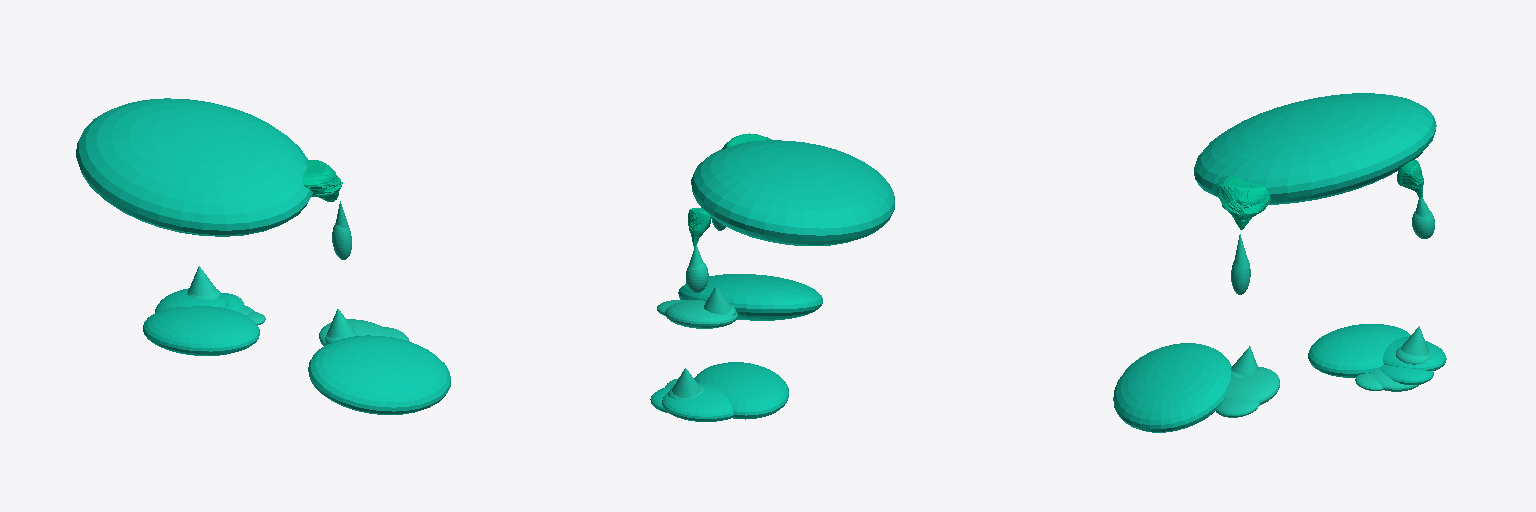
The model's file is obscure_faces.obj.
3 views of the same model, side by side, from view 1: azimuth 30°, elevation 25°; view 2: azimuth 150°, elevation 25°; view 3: azimuth 270°, elevation 25° (orthographic).
Visible parts, largest first — view 1: Sphere.021_Sphere.038, Sphere.008_Sphere.028, Sphere.007_Sphere.027, Sphere.020_Sphere.037, Sphere.016_Sphere.018, Sphere.009_Sphere.029, Sphere.019_Sphere.036; view 2: Sphere.021_Sphere.038, Sphere.008_Sphere.028, Sphere.007_Sphere.027, Sphere.016_Sphere.018, Sphere.009_Sphere.029, Sphere.013_Sphere.016, Cone.000, Sphere.014_Sphere.015; view 3: Sphere.021_Sphere.038, Sphere.008_Sphere.028, Sphere.007_Sphere.027, Sphere.020_Sphere.037, Sphere.009_Sphere.029, Sphere.016_Sphere.018, Sphere.017_Sphere.019, Sphere.013_Sphere.016, Sphere.011_Sphere.031.
Boxes of the visible parts, <box> form: Sphere.021_Sphere.038: <box>76,98,312,236</box>; Sphere.008_Sphere.028: <box>308,335,450,414</box>; Sphere.007_Sphere.027: <box>143,306,259,355</box>; Sphere.020_Sphere.037: <box>302,160,342,201</box>; Sphere.016_Sphere.018: <box>155,288,227,312</box>; Sphere.009_Sphere.029: <box>319,319,388,345</box>; Sphere.019_Sphere.036: <box>332,223,351,259</box>; Sphere.021_Sphere.038: <box>691,140,894,245</box>; Sphere.008_Sphere.028: <box>678,274,822,320</box>; Sphere.007_Sphere.027: <box>694,362,788,419</box>; Sphere.016_Sphere.018: <box>662,383,733,421</box>; Sphere.009_Sphere.029: <box>665,300,737,328</box>; Sphere.013_Sphere.016: <box>688,208,710,247</box>; Cone.000: <box>672,368,700,397</box>; Sphere.014_Sphere.015: <box>686,262,708,292</box>; Sphere.021_Sphere.038: <box>1194,93,1436,204</box>; Sphere.008_Sphere.028: <box>1113,343,1231,432</box>; Sphere.007_Sphere.027: <box>1308,324,1410,377</box>; Sphere.020_Sphere.037: <box>1217,176,1270,229</box>; Sphere.009_Sphere.029: <box>1225,367,1279,404</box>; Sphere.016_Sphere.018: <box>1383,337,1446,370</box>; Sphere.017_Sphere.019: <box>1380,365,1433,384</box>; Sphere.013_Sphere.016: <box>1397,160,1423,198</box>; Sphere.011_Sphere.031: <box>1216,399,1259,417</box>.
Bounding box in the file's own units: 9.61 × 8.16 × 10.19.